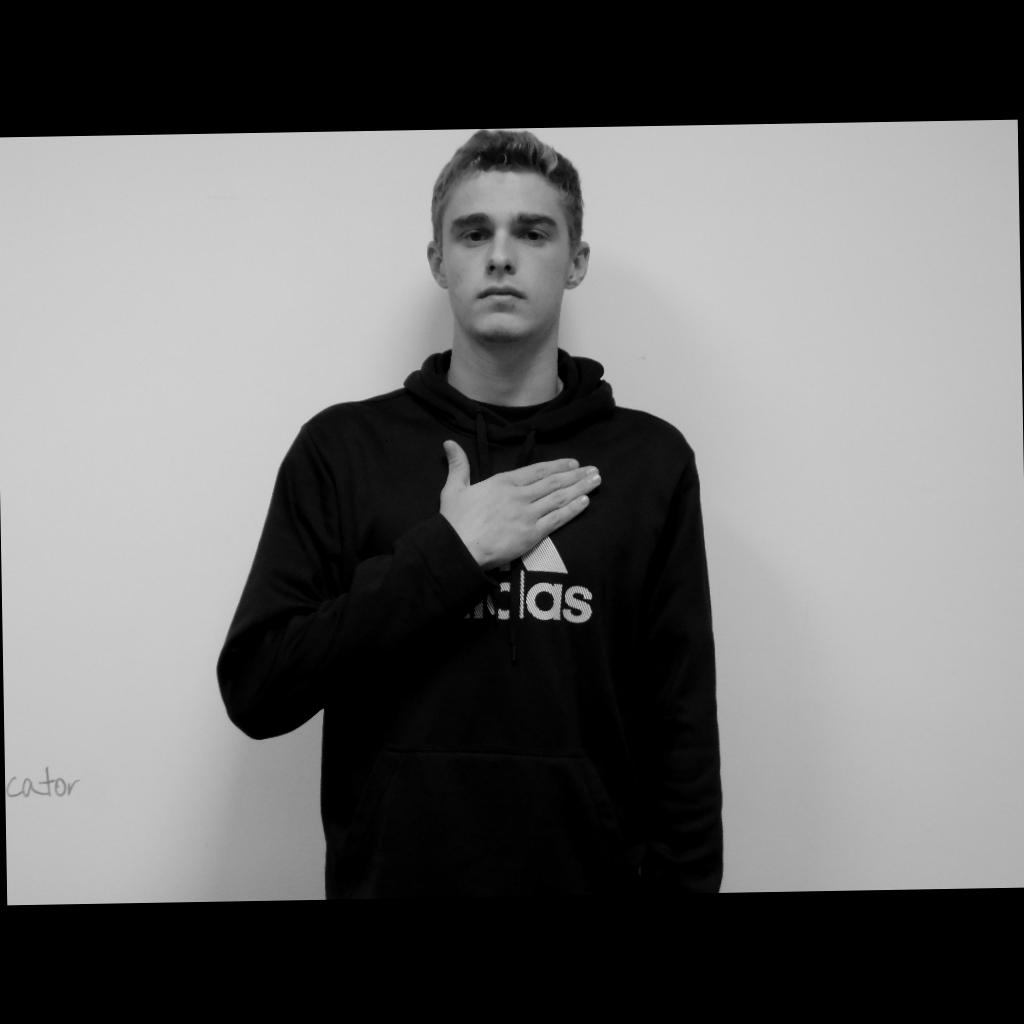my: (440, 437, 602, 567)
